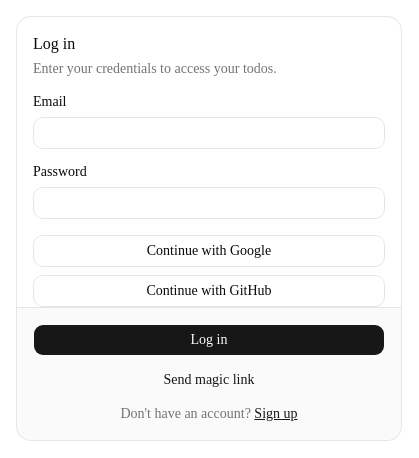
LoginPage › toggles magic link mode — password disappears, submit text changes
Expected: the password field labelled "Password" is shown, [33,186,385,218]
Expected: the button "Log in" is shown, [33,324,385,356]
Click the button "Send magic link" at (209, 380), box [33,364,385,396]
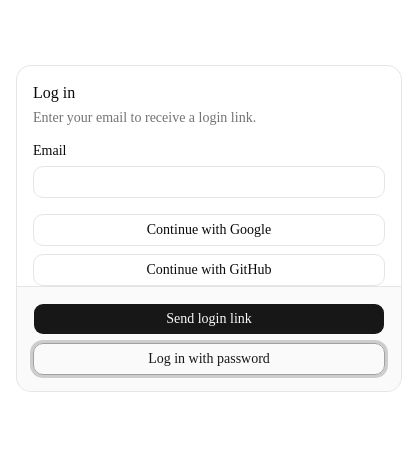
Expected: the button "Send login link" is shown, [33,302,385,334]
